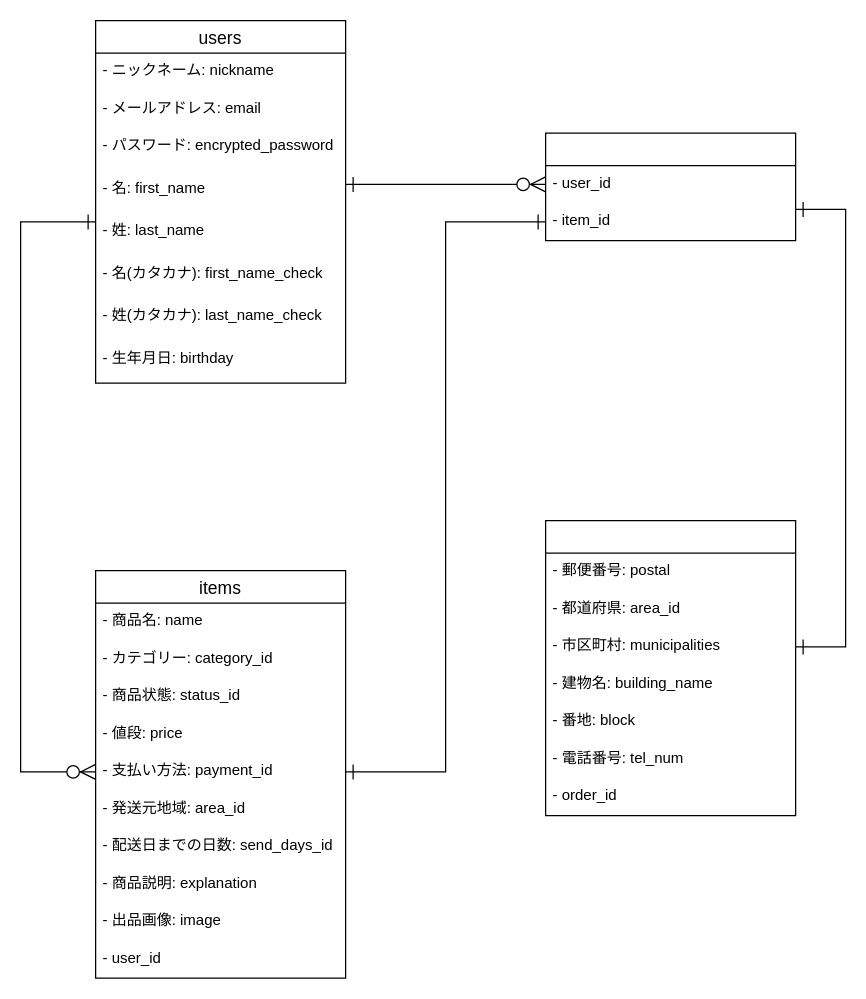
The diagram is 866 pixels wide and 999 high, and some of its shapes have lost their labels. The shapes that lost their labels are listed below. From the top down, each one's box as (x1, y1, x2, y2) in pixels, then its label:
(544, 132, 796, 241): orders
(544, 519, 796, 816): addresses
